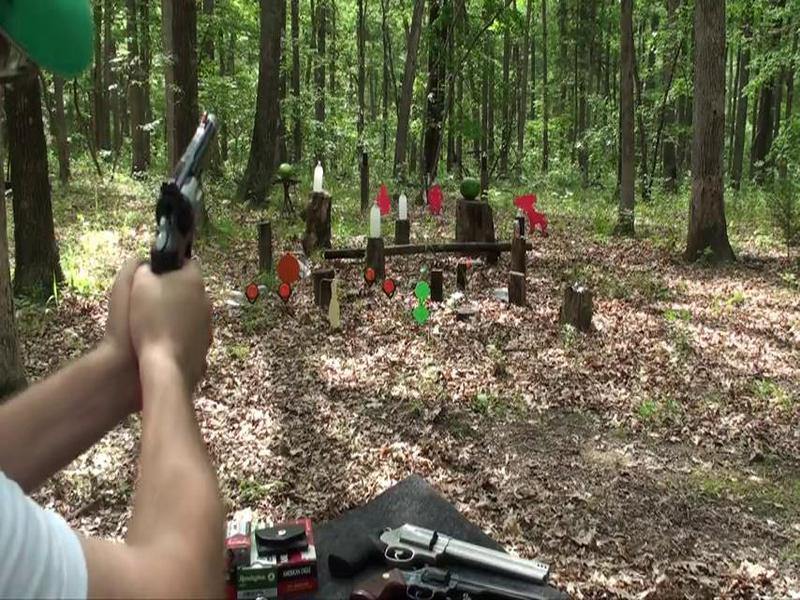Revolver: (138, 88, 227, 320)
